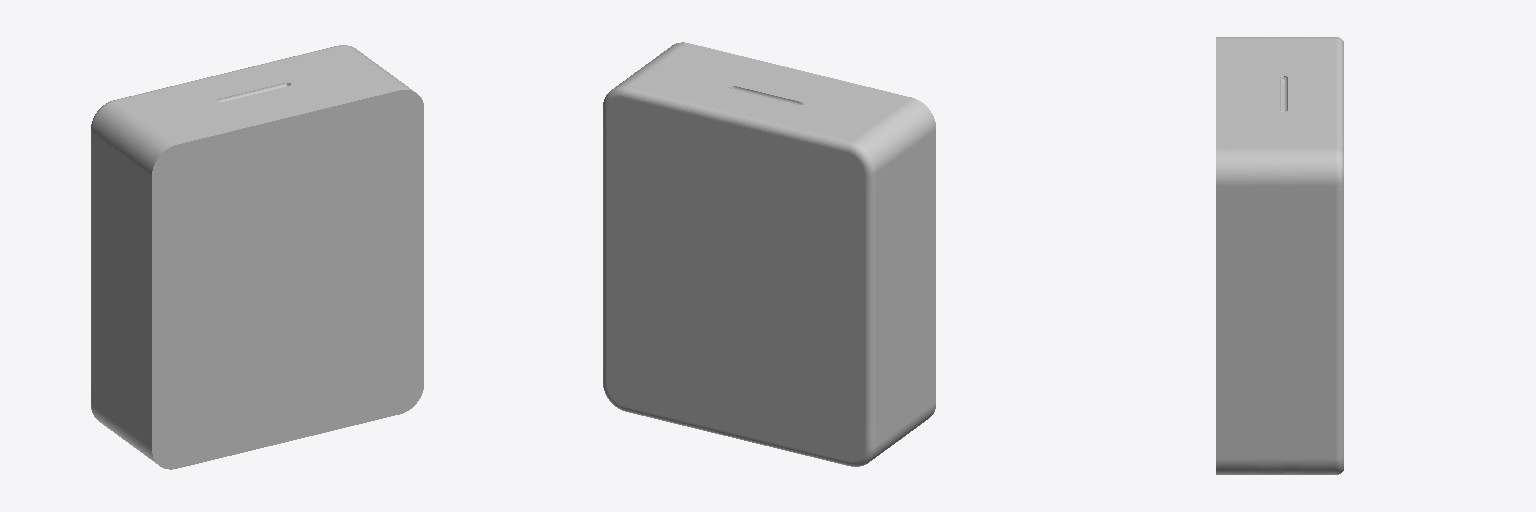
The model's file is editedCase.obj.
3 renders of one model, left to right at view 1: azimuth 30°, elevation 25°; view 2: azimuth 150°, elevation 25°; view 3: azimuth 270°, elevation 25°, orthographic.
Parts seen in each view (by area): view 1: case; view 2: case; view 3: case.
Boxes of the visible parts, <box> form: case: <box>91,45,423,469</box>; case: <box>603,42,935,466</box>; case: <box>1216,37,1343,474</box>.
Bounding box in the file's own units: 73.2 × 83.2 × 30.